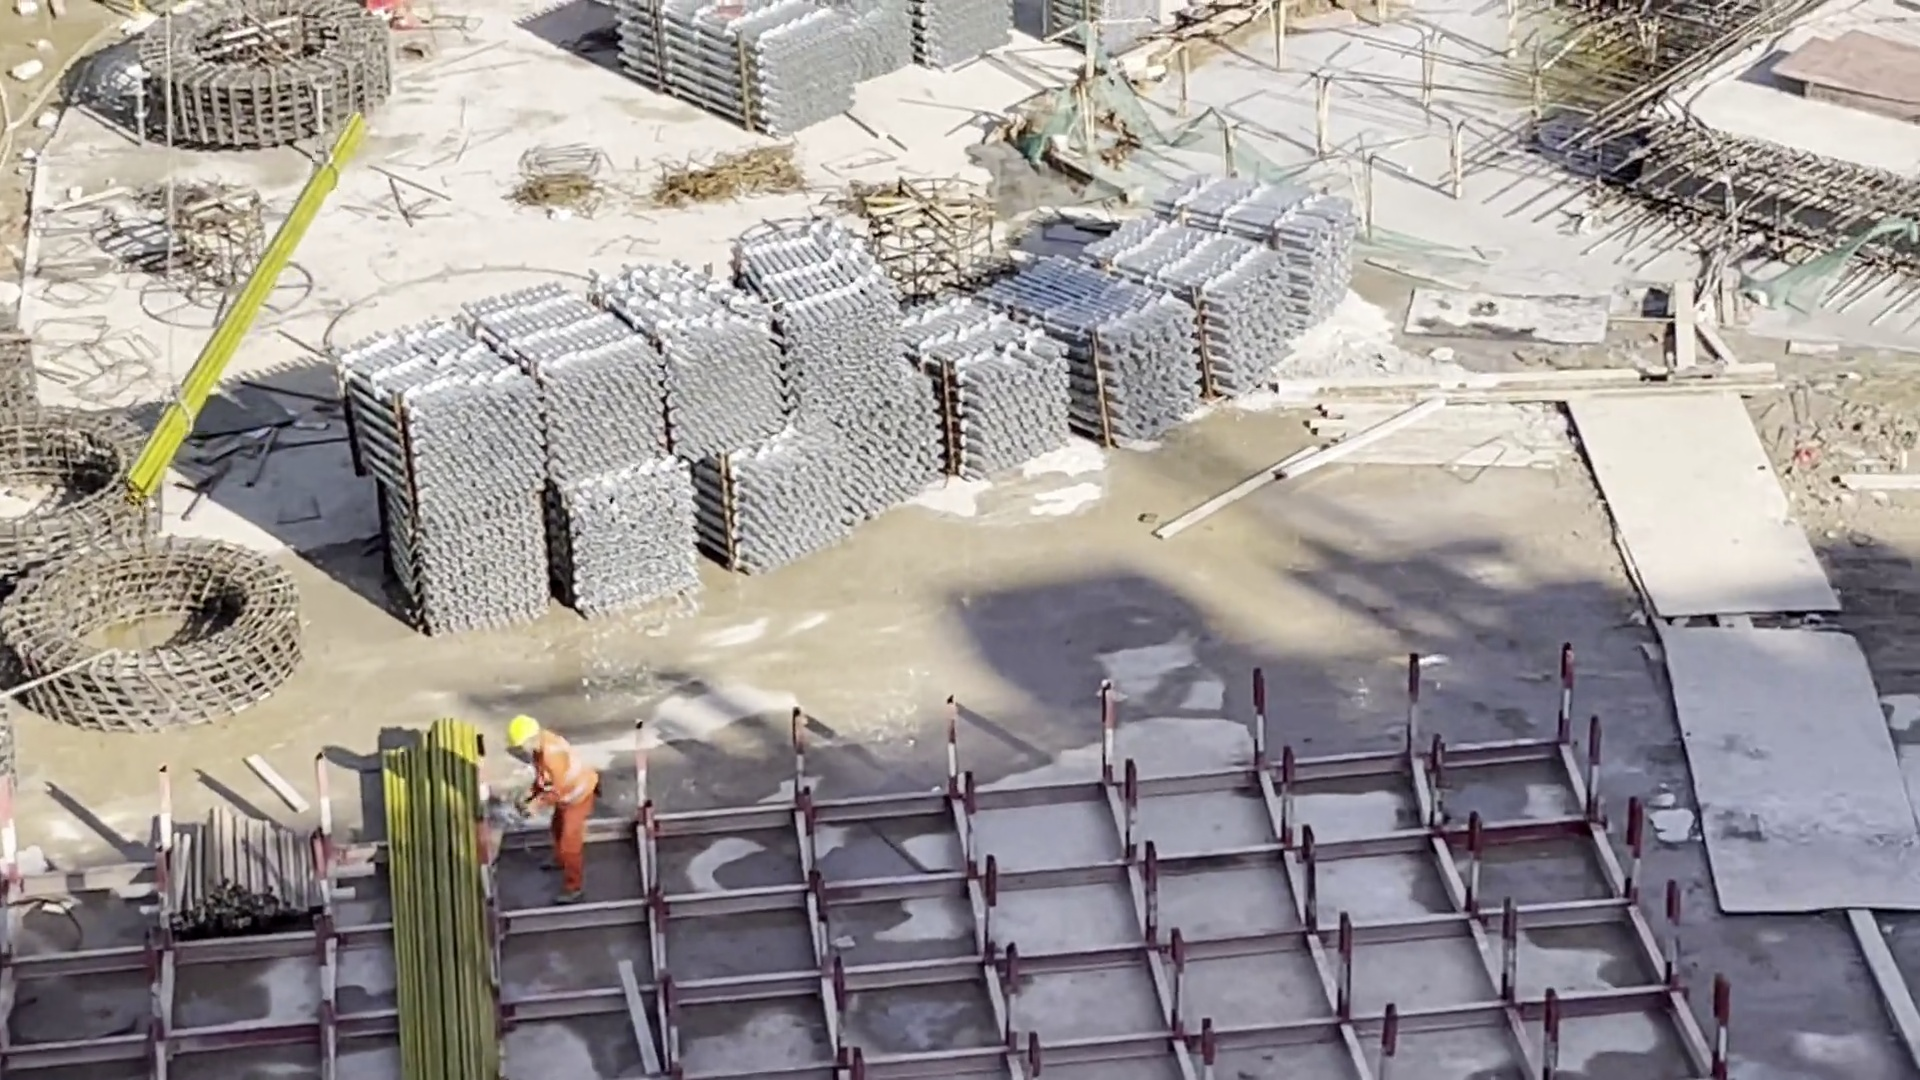board: (1758, 30, 1920, 136)
helmet: (496, 712, 544, 753)
person: (507, 722, 603, 905)
scaffold: (350, 157, 1359, 631), (613, 1, 1021, 137)
vest: (526, 744, 613, 806)
